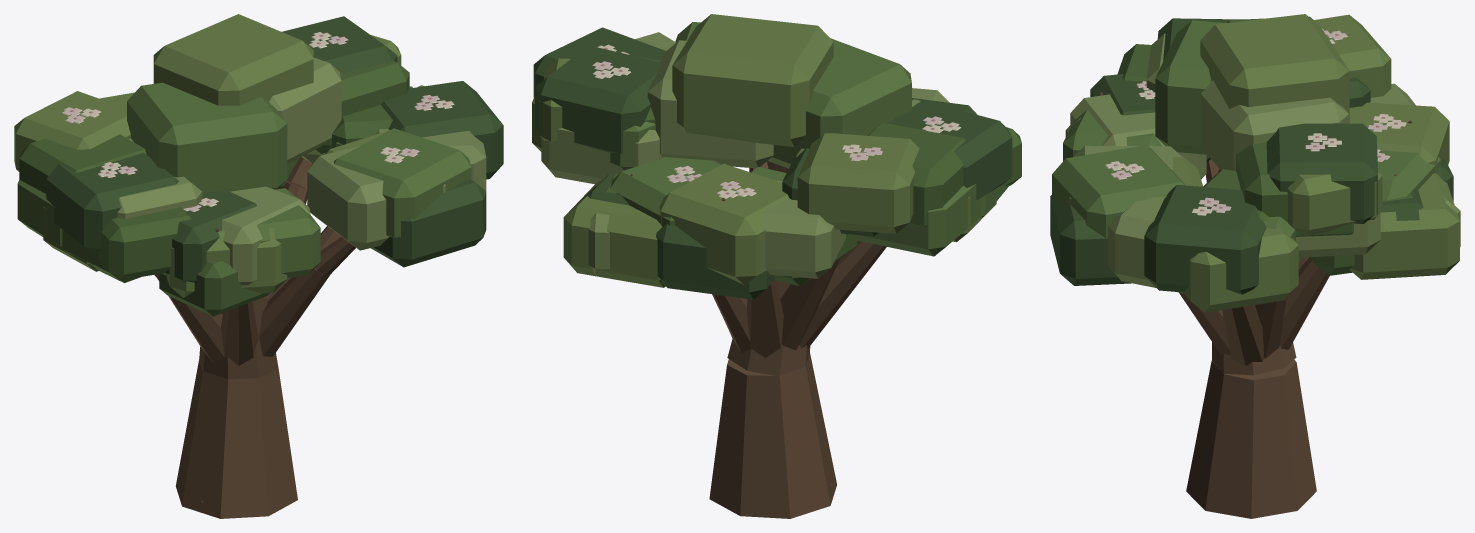
The model's file is apple_ancient_spring_2.glb.
The picture shows the model from 3 angles, left to right: view 1: azimuth 30°, elevation 25°; view 2: azimuth 150°, elevation 25°; view 3: azimuth 270°, elevation 25°; orthographic projection. The views are drawn at different scales.
Parts seen in each view (by area): view 1: apple_ancient_spring_2; view 2: apple_ancient_spring_2; view 3: apple_ancient_spring_2.
Boxes of the visible parts, x1,y1,x2,y2 form: apple_ancient_spring_2: (14,14,503,518); apple_ancient_spring_2: (532,14,1021,518); apple_ancient_spring_2: (1050,14,1460,518).
Size of the model in its own units: 18.41 by 18 by 14.74.
